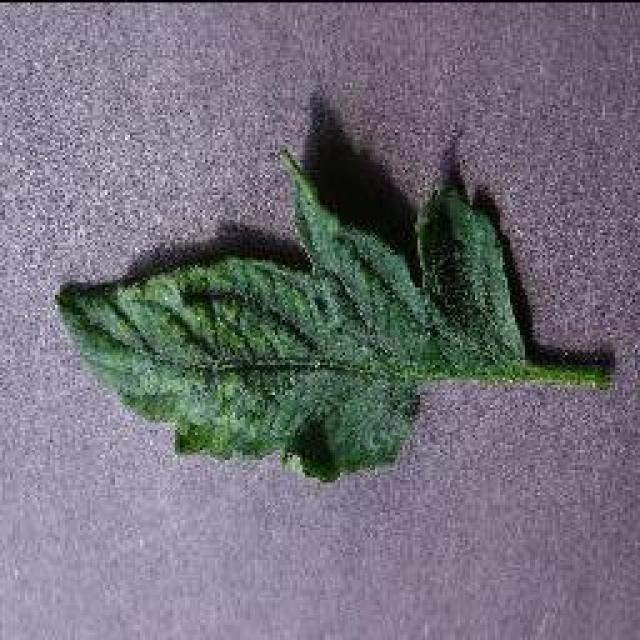Tomato___Tomato_mosaic_virus: (55, 152, 608, 480)
